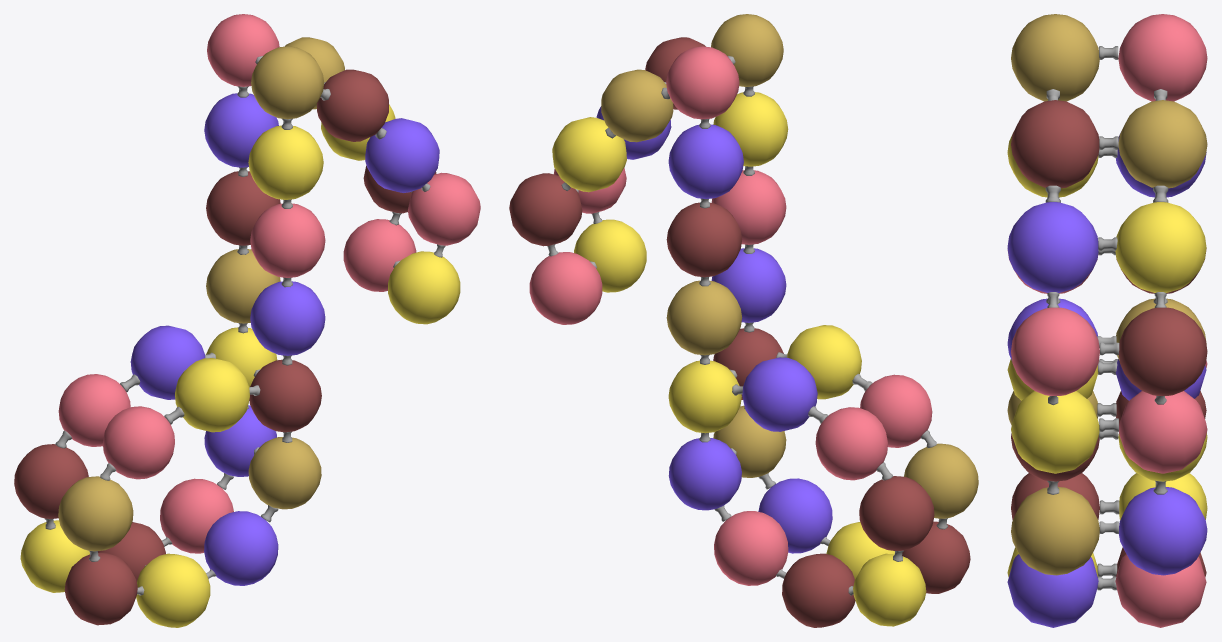
Rendered from MusicNote_Chapter6.fbx.
3 views of the same model, side by side, from view 1: azimuth 30°, elevation 25°; view 2: azimuth 150°, elevation 25°; view 3: azimuth 270°, elevation 25° (orthographic). The views are drawn at different scales.
Parts seen in each view (by area): view 1: M_MusicNote8, M_MusicNote5, M_MusicNote21, M_MusicNote18, M_MusicNote20, M_MusicNote13, M_MusicNote9, M_MusicNote25, M_MusicNote31, M_MusicNote2, M_MusicNote29, M_MusicNote3 (+20 smaller); view 2: M_MusicNote10, M_MusicNote4, M_MusicNote14, M_MusicNote22, M_MusicNote17, M_MusicNote19, M_MusicNote11, M_MusicNote26, M_MusicNote1, M_MusicNote30, M_MusicNote32, M_MusicNote12 (+20 smaller); view 3: M_MusicNote25, M_MusicNote26, M_MusicNote27, M_MusicNote28, M_MusicNote24, M_MusicNote23, M_MusicNote3, M_MusicNote12, M_MusicNote32, M_MusicNote31, M_MusicNote29, M_MusicNote30 (+14 smaller).
Part boxes in pixels (x1,y1,x2,y2): M_MusicNote8: (204, 511, 278, 585); M_MusicNote5: (58, 476, 133, 551); M_MusicNote21: (248, 125, 323, 199); M_MusicNote18: (250, 281, 325, 355); M_MusicNote20: (250, 203, 325, 277); M_MusicNote13: (175, 358, 249, 432); M_MusicNote9: (136, 553, 210, 627); M_MusicNote25: (365, 118, 439, 192); M_MusicNote31: (251, 46, 324, 119); M_MusicNote2: (103, 406, 174, 479); M_MusicNote29: (388, 251, 460, 324); M_MusicNote3: (248, 437, 321, 509); M_MusicNote10: (714, 511, 788, 585); M_MusicNote4: (859, 476, 934, 550); M_MusicNote14: (742, 357, 817, 431); M_MusicNote22: (668, 124, 743, 198); M_MusicNote17: (666, 280, 742, 355); M_MusicNote19: (666, 202, 742, 277); M_MusicNote11: (782, 553, 855, 627); M_MusicNote26: (552, 117, 626, 192); M_MusicNote1: (815, 407, 887, 480); M_MusicNote30: (529, 252, 602, 324); M_MusicNote32: (666, 46, 739, 119); M_MusicNote12: (668, 438, 741, 510); M_MusicNote25: (1007, 202, 1098, 292); M_MusicNote26: (1115, 202, 1206, 292); M_MusicNote27: (1011, 307, 1099, 395); M_MusicNote28: (1118, 307, 1207, 395); M_MusicNote24: (1118, 100, 1207, 188); M_MusicNote23: (1011, 100, 1099, 188); M_MusicNote3: (1011, 486, 1099, 575); M_MusicNote12: (1119, 487, 1207, 575); M_MusicNote32: (1118, 14, 1207, 101); M_MusicNote31: (1011, 14, 1099, 101); M_MusicNote29: (1011, 391, 1099, 473); M_MusicNote30: (1119, 391, 1207, 473).
Size of the model in its own units: 483 by 610 by 166.
